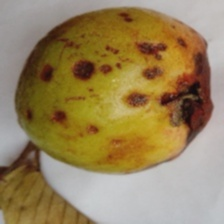guava: (45, 43, 223, 185)
